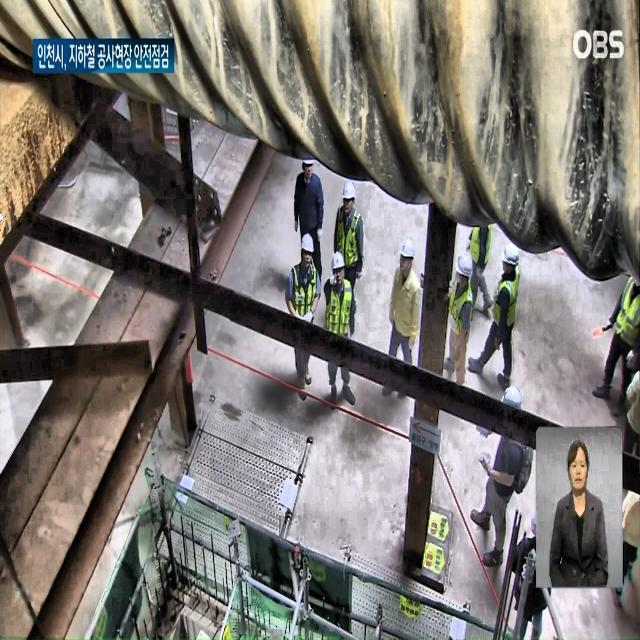safety_helmet: (338, 178, 364, 214), (500, 244, 524, 274), (453, 249, 470, 283), (399, 240, 417, 266), (301, 233, 315, 252), (332, 256, 341, 274)
safety_jacket: (288, 260, 318, 330), (615, 264, 639, 346), (325, 290, 353, 346), (342, 215, 366, 278), (446, 284, 468, 337), (471, 224, 491, 274), (498, 277, 514, 332)
